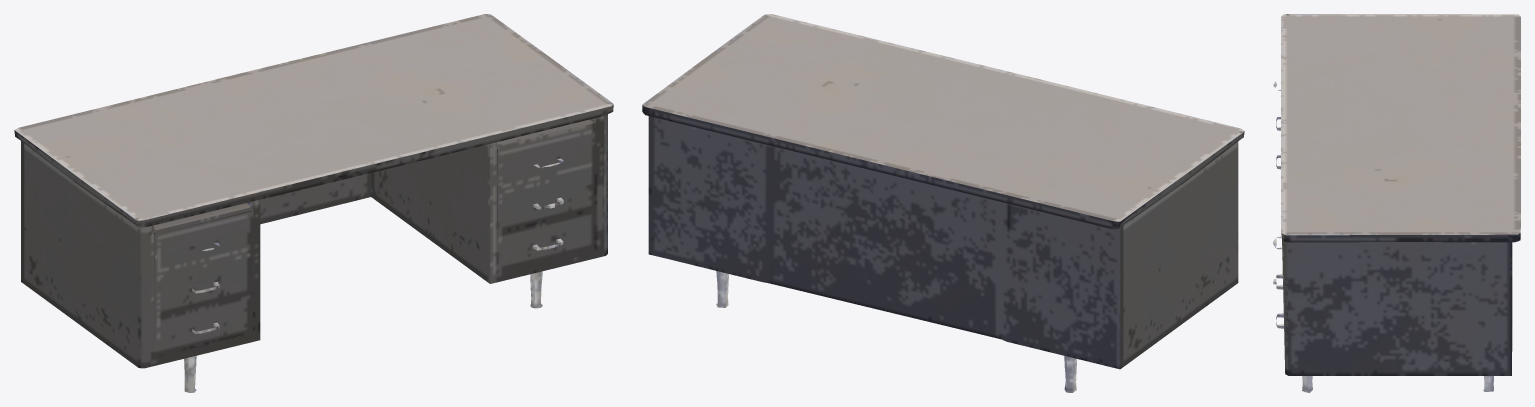
File: metal_office_desk.glb
The picture shows the model from 3 angles, left to right: view 1: azimuth 30°, elevation 25°; view 2: azimuth 150°, elevation 25°; view 3: azimuth 270°, elevation 25°; orthographic projection. The views are drawn at different scales.
Parts seen in each view (by area): view 1: mesh; view 2: mesh; view 3: mesh.
Part boxes in pixels (<box>): mesh: <box>14,14,613,392</box>; mesh: <box>642,14,1244,392</box>; mesh: <box>1273,14,1520,392</box>.
Size of the model in its own units: 2 by 0.7875 by 0.9476.
1 material, 1 textured.
